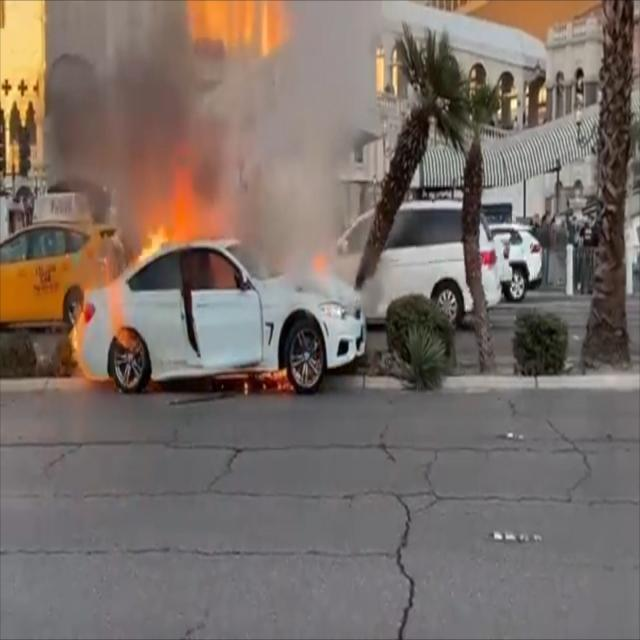fire: (68, 166, 215, 402)
